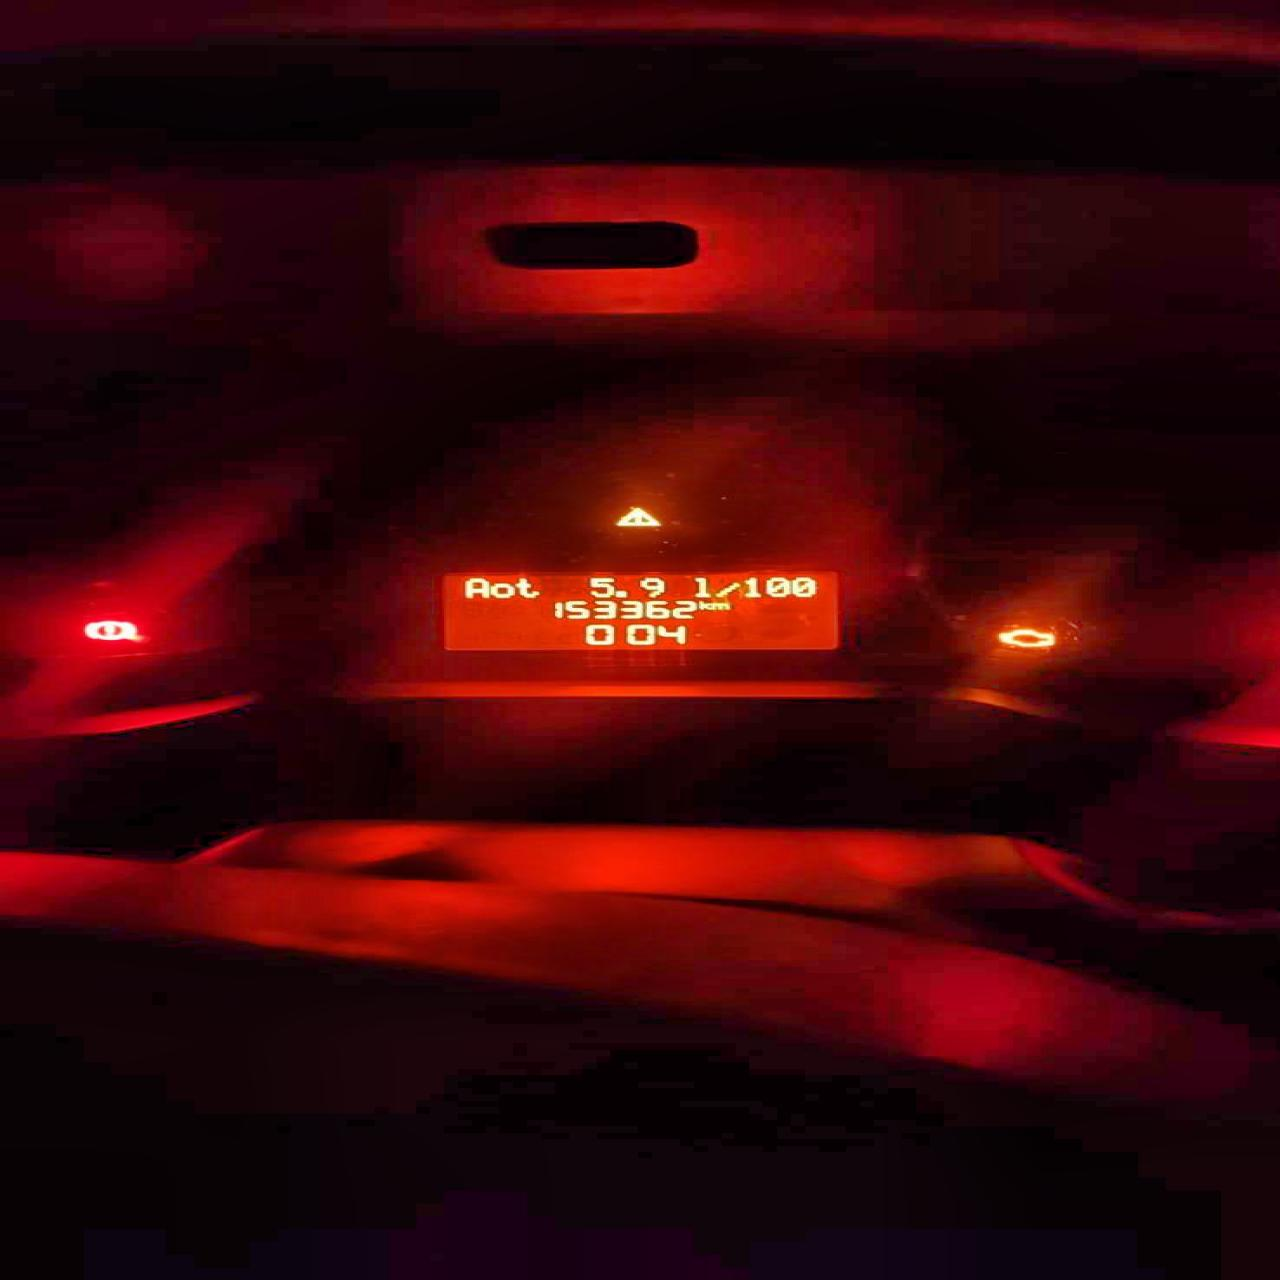-: (614, 588, 629, 598)
0: (581, 622, 615, 646), (625, 622, 655, 646), (789, 574, 818, 598), (764, 576, 788, 598)
1: (744, 576, 765, 601), (550, 599, 564, 621)
2: (672, 599, 696, 620)
3: (618, 598, 641, 619), (590, 599, 614, 619)
4: (655, 622, 687, 644)
5: (586, 576, 614, 598), (564, 599, 590, 619)
6: (641, 599, 669, 619)
9: (638, 576, 666, 598)
X: (459, 576, 488, 599), (513, 576, 542, 599), (692, 574, 713, 598), (713, 580, 738, 598), (488, 581, 513, 599), (709, 600, 731, 610), (697, 599, 709, 610)
odometer: (436, 568, 853, 656)
